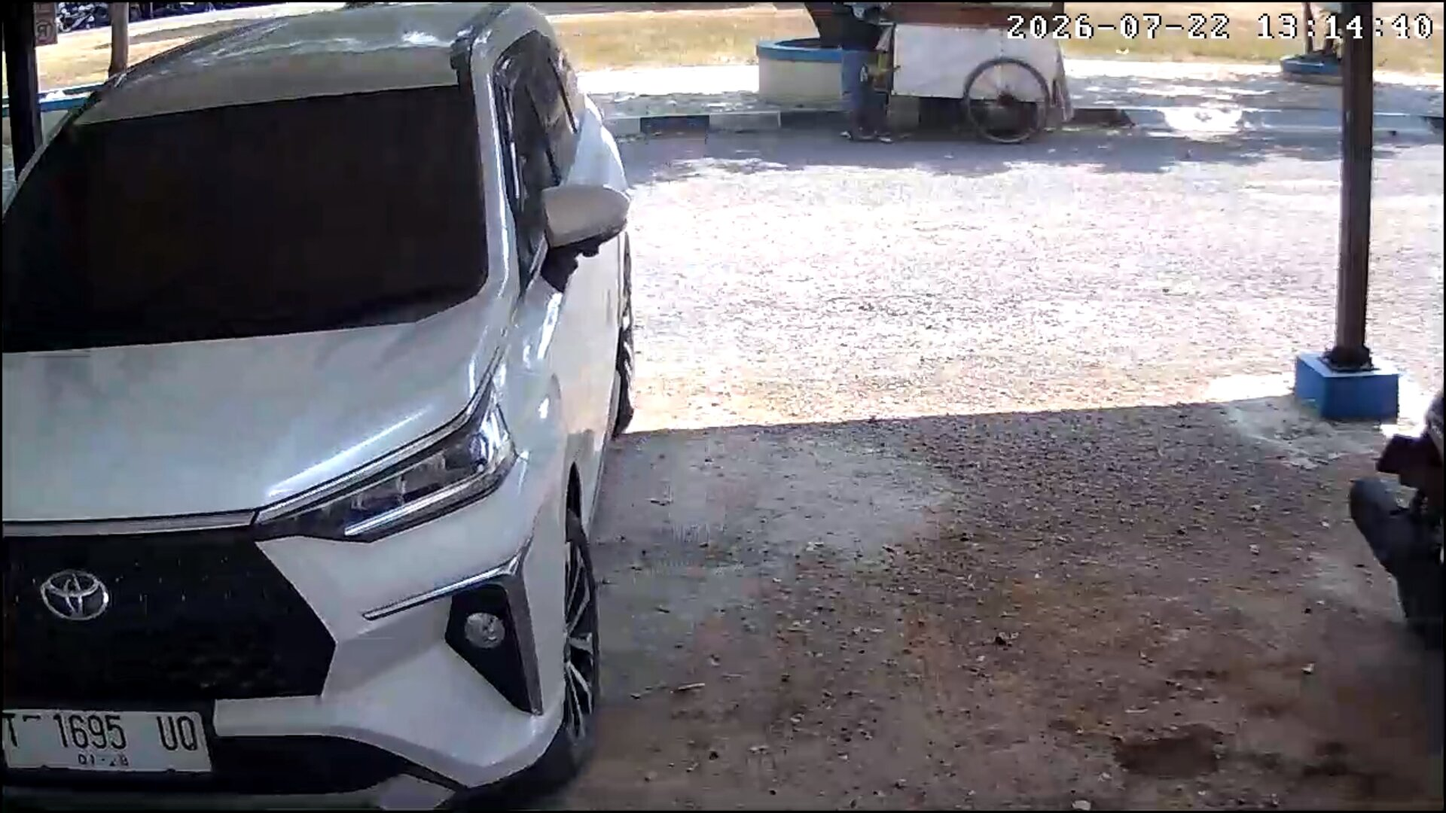plat nomor: (1, 706, 220, 778)
